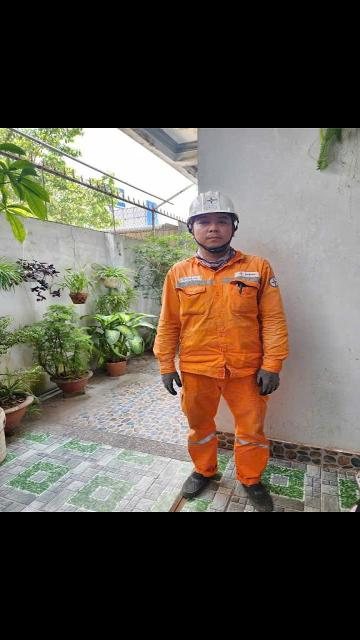gloves: (156, 368, 193, 399), (254, 364, 284, 400)
helmet: (180, 187, 244, 226)
shoes: (227, 476, 282, 512), (175, 458, 222, 497)
